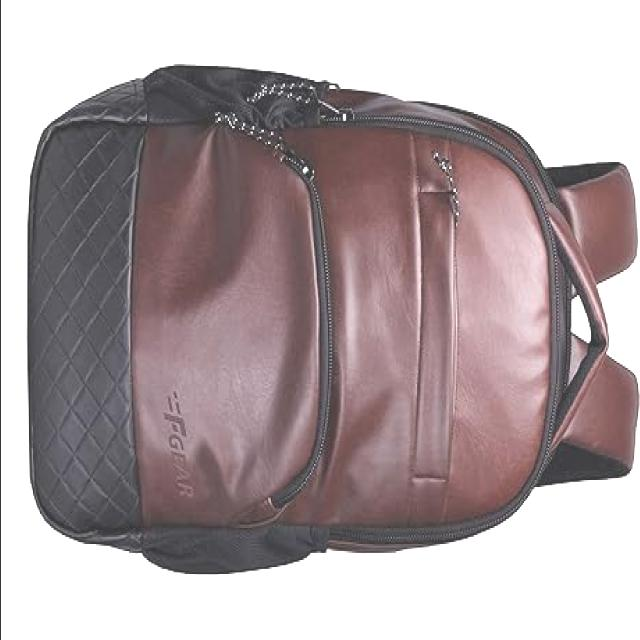backpack: (27, 42, 640, 594)
